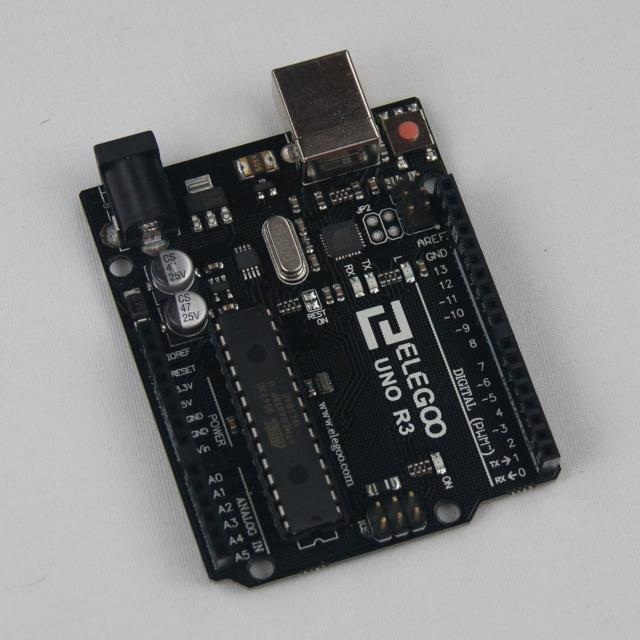Arduino Uno -Black-: (81, 52, 560, 587)
